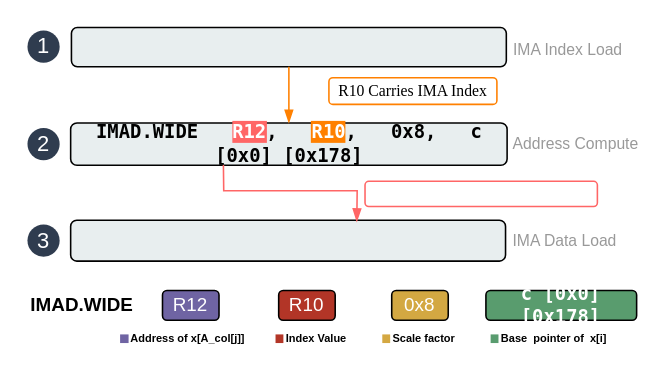
This 670x375 diagram has some shape labels left out. Each missing label, with the centre of its shape:
"LDG.E R10 , [R6]" goes at pixel 288 46.
"LDG.E R14, [ R12 ]" goes at pixel 287 240.
"R12 Carries Computed Address" goes at pixel 480 193.
